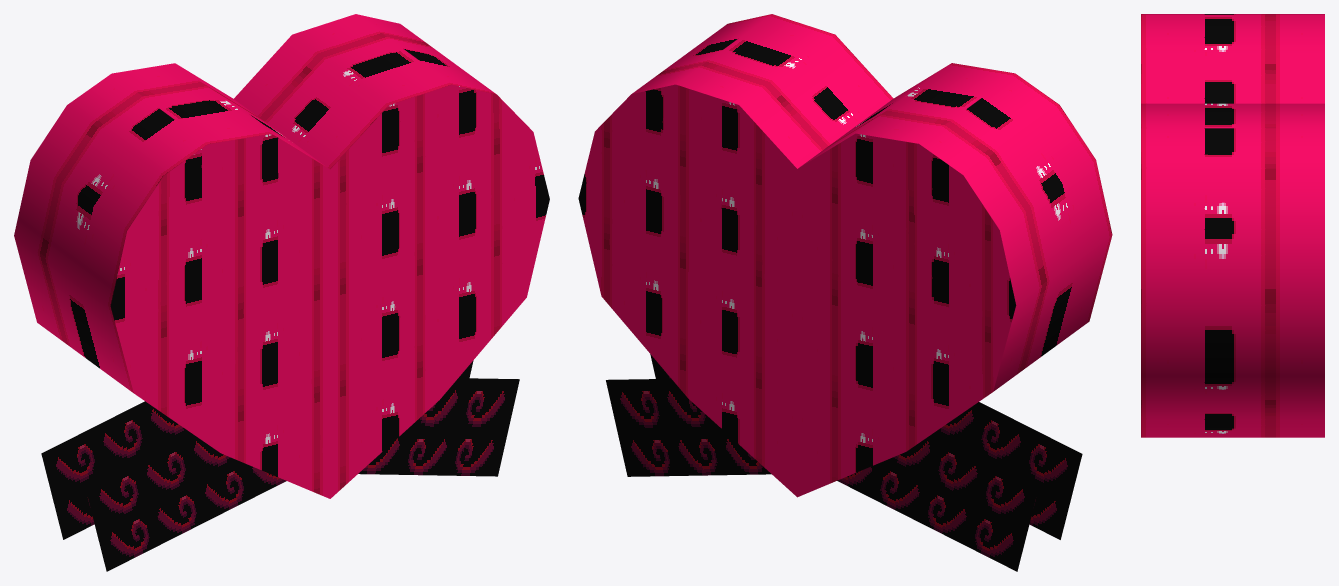
File: 3828kg3_ser09.gltf
3 views of the same model, side by side, from view 1: azimuth 30°, elevation 25°; view 2: azimuth 150°, elevation 25°; view 3: azimuth 270°, elevation 25° (orthographic). The views are drawn at different scales.
Parts seen in each view (by area): view 1: 3828kg3_ser09; view 2: 3828kg3_ser09; view 3: 3828kg3_ser09.
Boxes of the visible parts, x1,y1,x2,y2 form: 3828kg3_ser09: [14, 14, 549, 571]; 3828kg3_ser09: [578, 14, 1112, 571]; 3828kg3_ser09: [1141, 14, 1324, 437].
Size of the model in its own units: 0.8784 by 0.822 by 0.3347.
4 materials, 4 textured.
